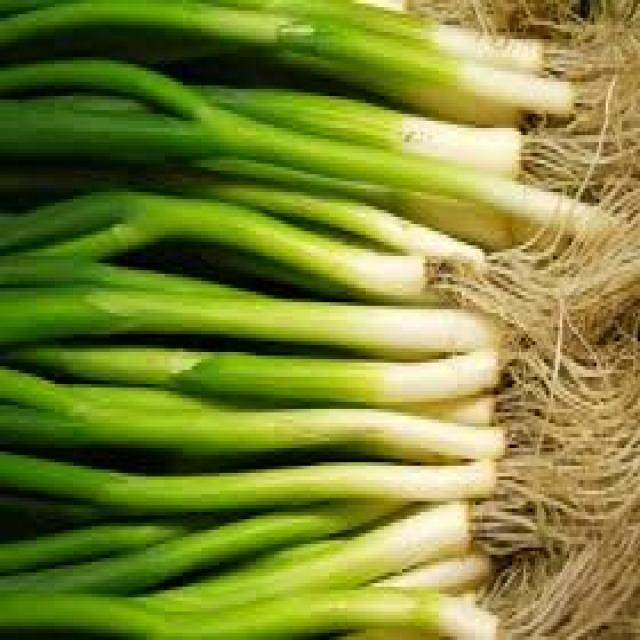spring_onion: (0, 60, 640, 304), (0, 458, 634, 638), (1, 344, 640, 462)
